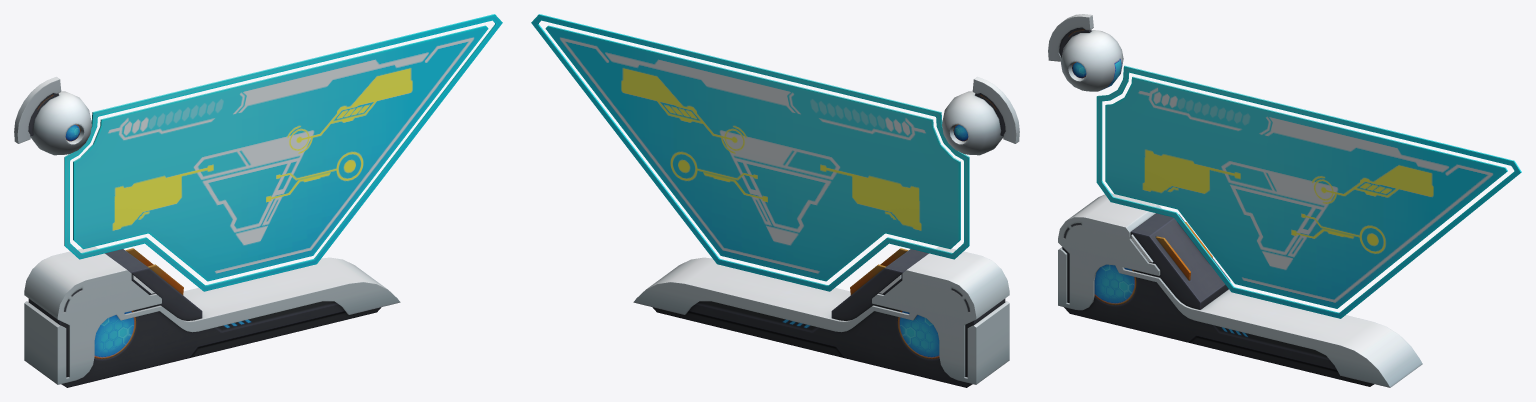
Rendered from mesh_1002_yjy_sd002.FBX.
3 views of the same model, side by side, from view 1: azimuth 30°, elevation 25°; view 2: azimuth 150°, elevation 25°; view 3: azimuth 330°, elevation 25° (orthographic). The views are drawn at different scales.
Visible parts, largest first — view 1: mesh_1002_yjy_sd002b, mesh_1002_yjy_sd002a; view 2: mesh_1002_yjy_sd002b, mesh_1002_yjy_sd002a; view 3: mesh_1002_yjy_sd002b, mesh_1002_yjy_sd002a.
Boxes of the visible parts, x1=… form: mesh_1002_yjy_sd002b: x1=73, y1=25, x2=488, y2=281; mesh_1002_yjy_sd002a: x1=14, y1=14, x2=502, y2=387; mesh_1002_yjy_sd002b: x1=545, y1=25, x2=960, y2=281; mesh_1002_yjy_sd002a: x1=531, y1=14, x2=1019, y2=387; mesh_1002_yjy_sd002b: x1=1105, y1=76, x2=1507, y2=308; mesh_1002_yjy_sd002a: x1=1048, y1=14, x2=1521, y2=387.
Bounding box in the file's own units: 556 × 324 × 66.44.
